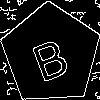B: (26, 29, 72, 83)
